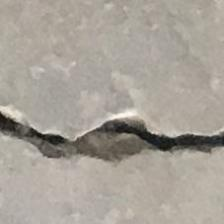Crack: (0, 94, 224, 166)
